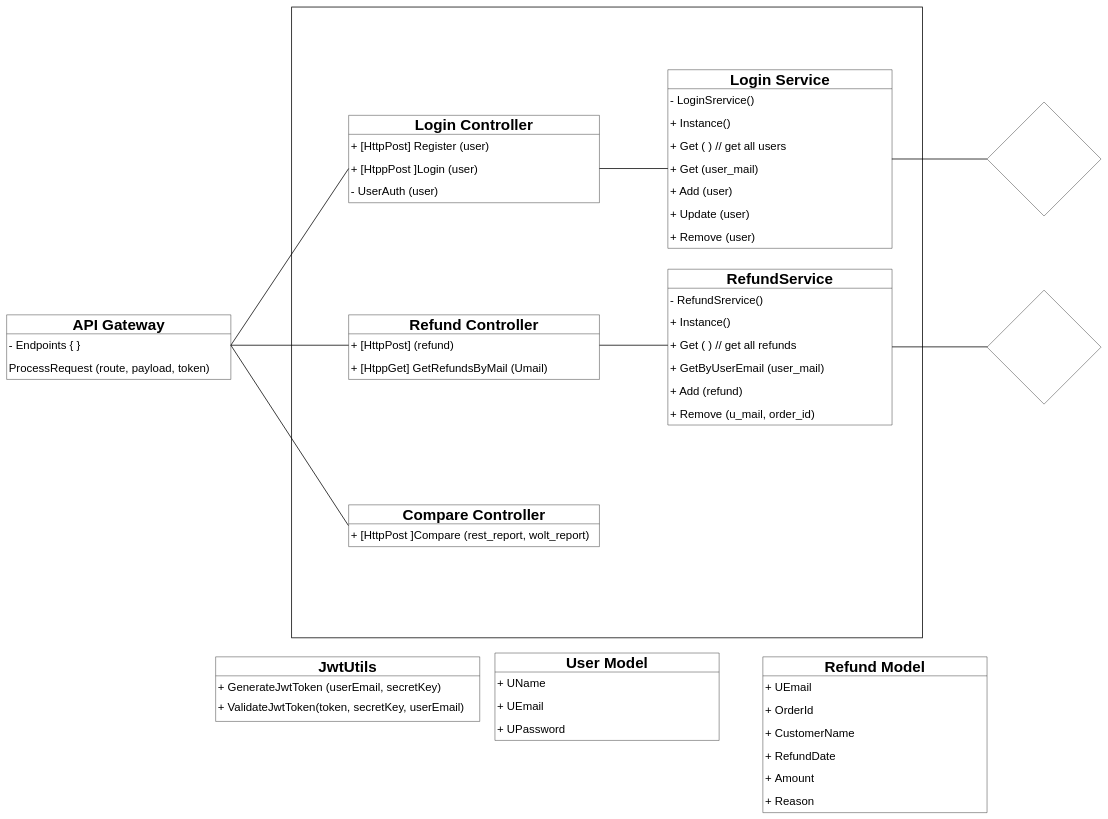
Some shapes in this 1108 by 819 pixel diagram are drawn without their labels. The centre of each missing label's shape, as x and y in pixels:
Login DB: the point at 1044,159
Refund DB: the point at 1044,347
